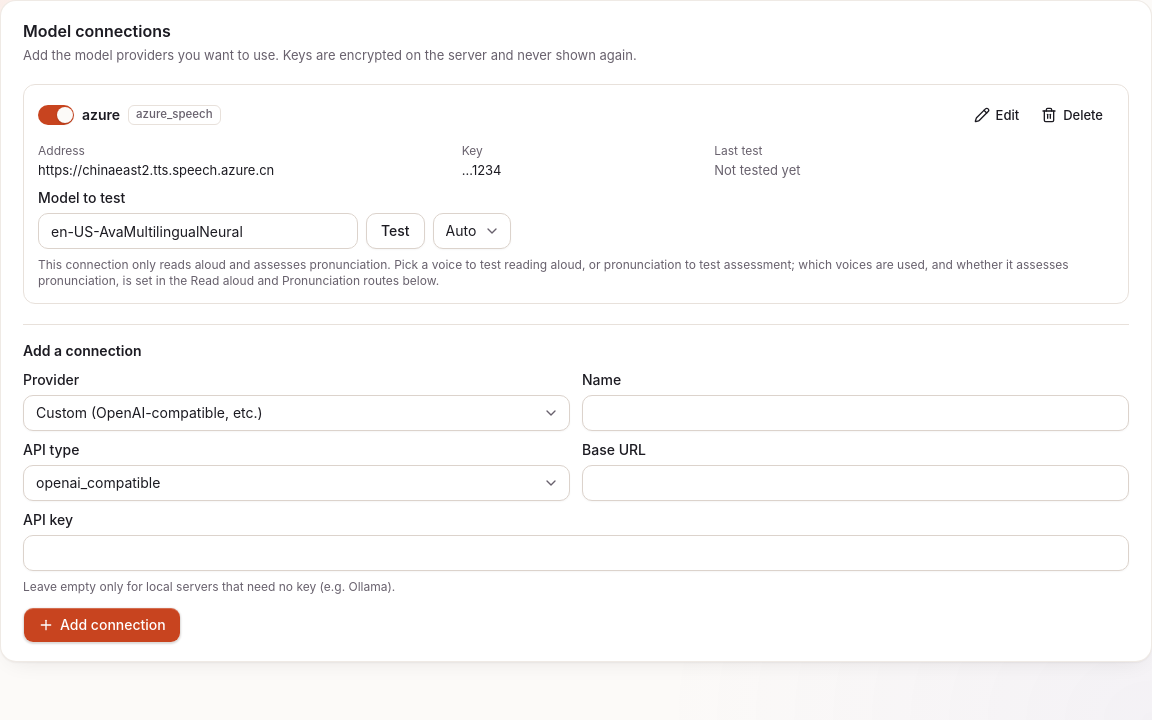
Test case: ConnectionsSection › tests pronunciation assessment on the same connection
The image size is (1152, 720).
Replace the text in the dropdown labelled "Model to test" with "pronunciation" at (198, 231), box [38,213,358,249]
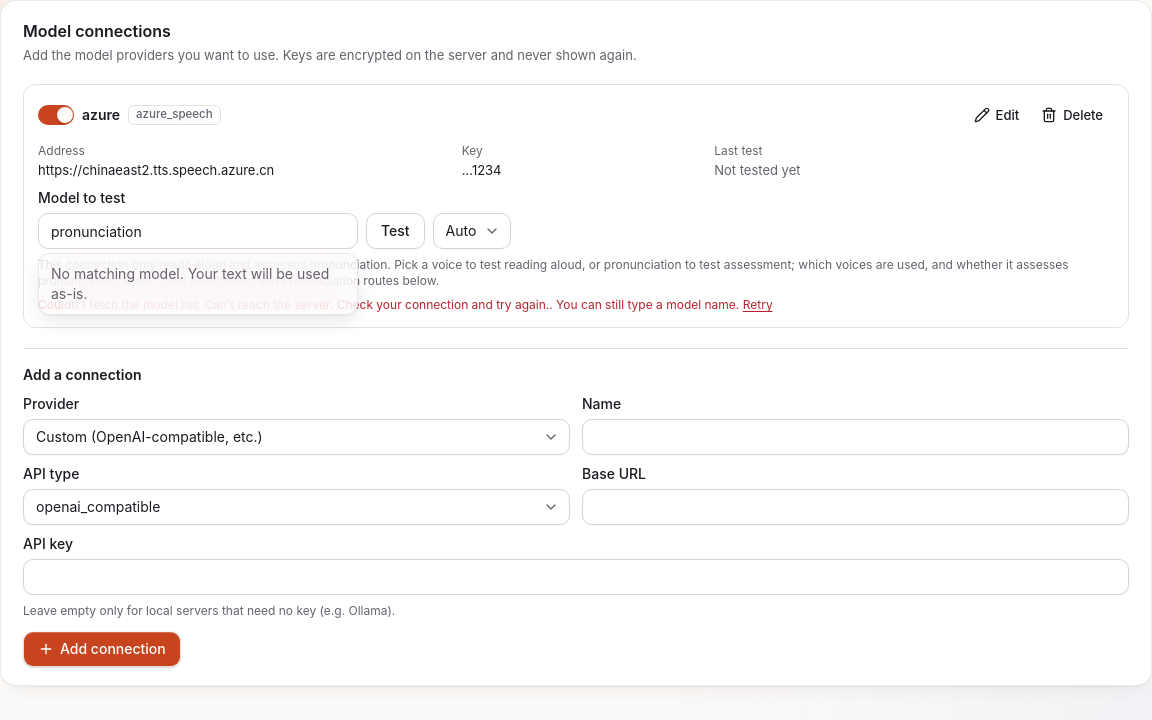
Press Escape
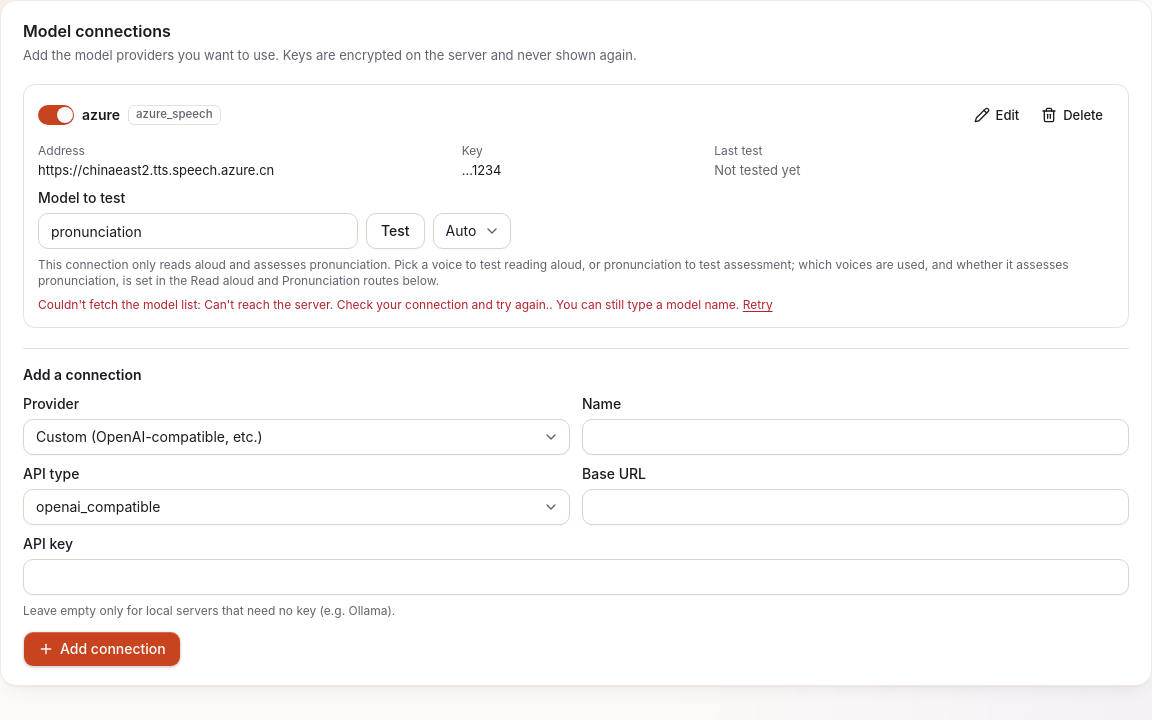
Click the button "Test" at (395, 231), box [366,213,425,249]
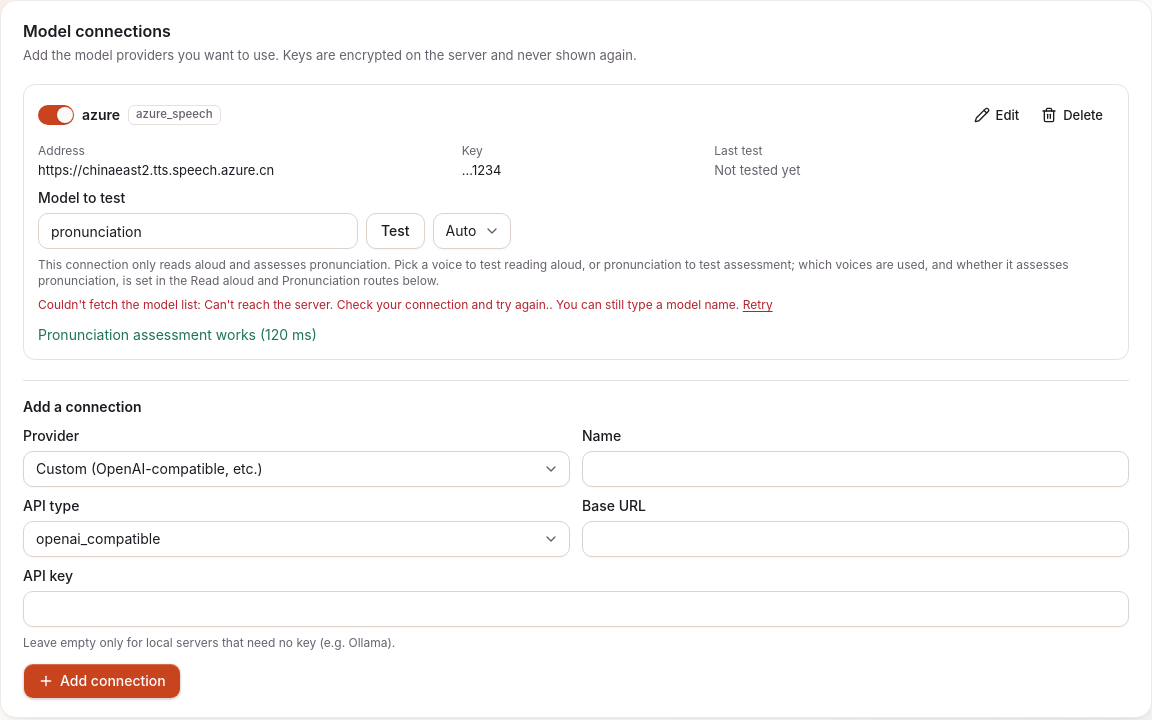
expect the list item with test id "connection-azure" shows "Pronunciation assessment works (120 ms)": met, box [38,326,317,343]
Click the dropdown named "Test as" at (472, 231), box [433,213,511,249]
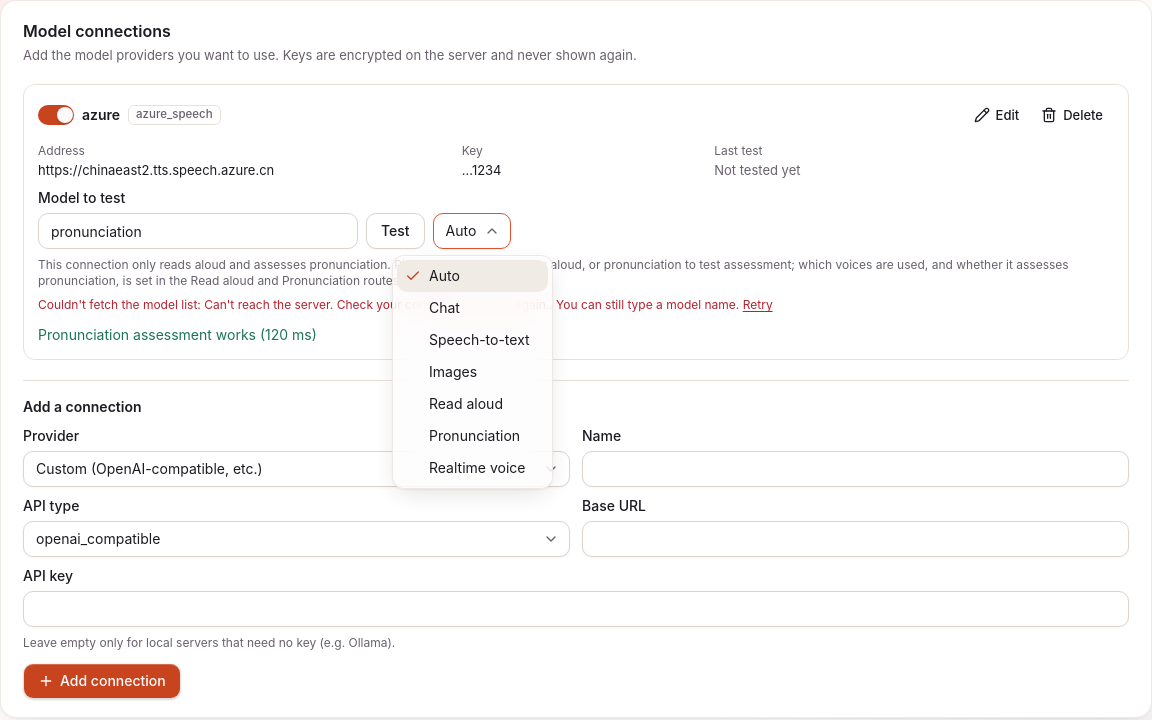
expect the option "Pronunciation" is shown: met, box [429,427,520,444]
